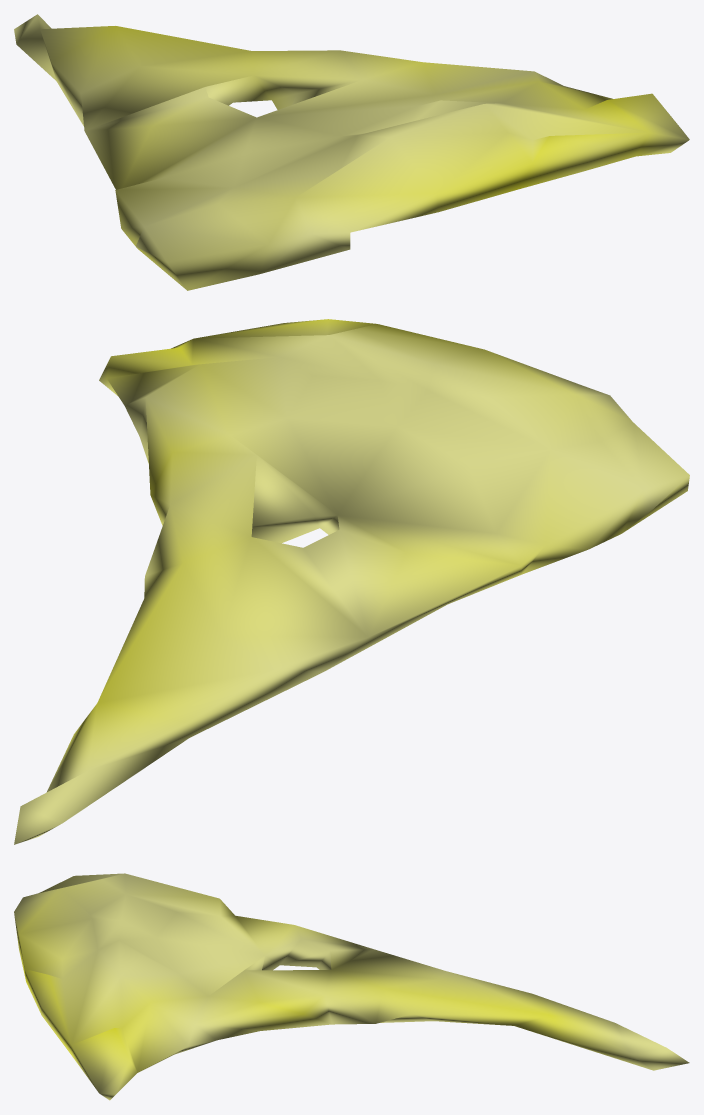
3 renders of one model, top to bottom at view 1: azimuth 30°, elevation 25°; view 2: azimuth 150°, elevation 25°; view 3: azimuth 270°, elevation 25°, orthographic. The views are drawn at different scales.
Parts seen in each view (by area): view 1: LOD 5_12822544702743451033_820756dedd5b3434c8e6bed8ae6a193b; view 2: LOD 5_12822544702743451033_820756dedd5b3434c8e6bed8ae6a193b; view 3: LOD 5_12822544702743451033_820756dedd5b3434c8e6bed8ae6a193b.
Part boxes in pixels (box(x1,y1,x2,y2)): LOD 5_12822544702743451033_820756dedd5b3434c8e6bed8ae6a193b: box(14, 14, 689, 290); LOD 5_12822544702743451033_820756dedd5b3434c8e6bed8ae6a193b: box(14, 319, 689, 844); LOD 5_12822544702743451033_820756dedd5b3434c8e6bed8ae6a193b: box(14, 873, 689, 1100).
Bounding box in the file's own units: 3.07 × 1.07 × 4.33.
